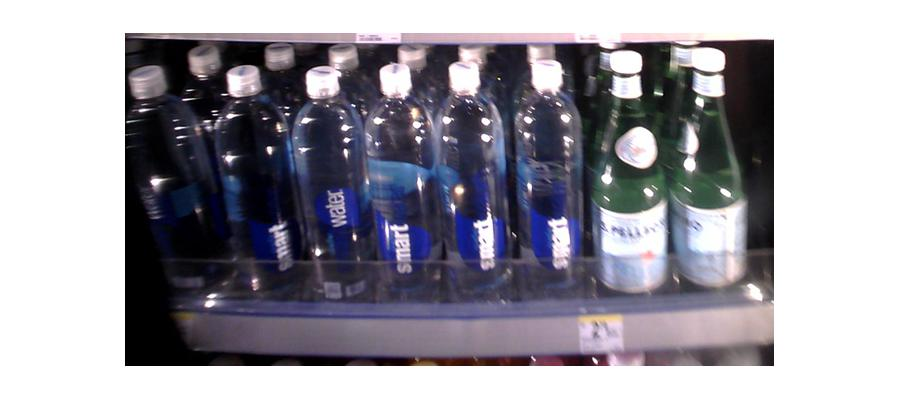bottle: (591, 55, 671, 300), (211, 67, 292, 305), (433, 54, 508, 310), (509, 57, 586, 301), (285, 69, 363, 300), (674, 51, 747, 297), (147, 76, 219, 319), (363, 63, 434, 304)
